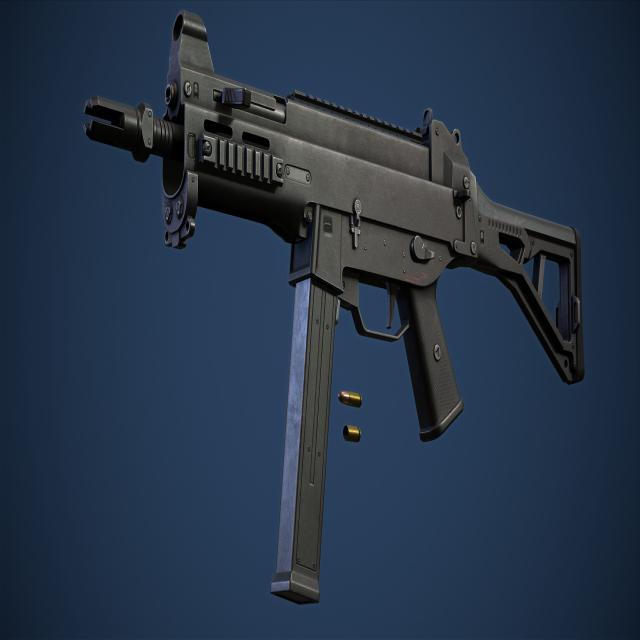SMG: (84, 13, 587, 607)
